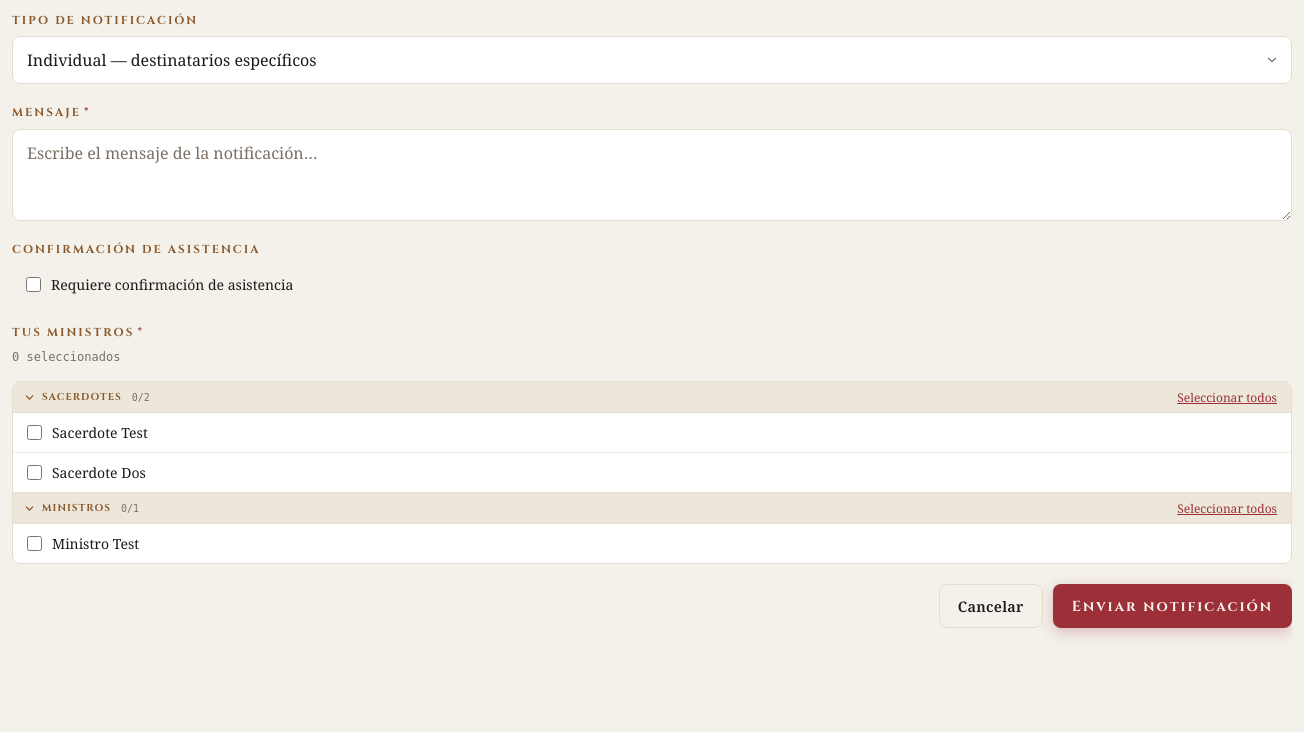
Test: EnviarNotificacionForm › asocia las etiquetas y nombra los grupos y el evento condicional
Expected: the dropdown labelled "Tipo de notificación" is shown, [12,36,1292,84]
Expected: the checkbox labelled "Sacerdote Test" is shown, [27,425,42,440]
Click the checkbox labelled "Requiere confirmación de asistencia": x=34, y=284 [26,277,41,292]
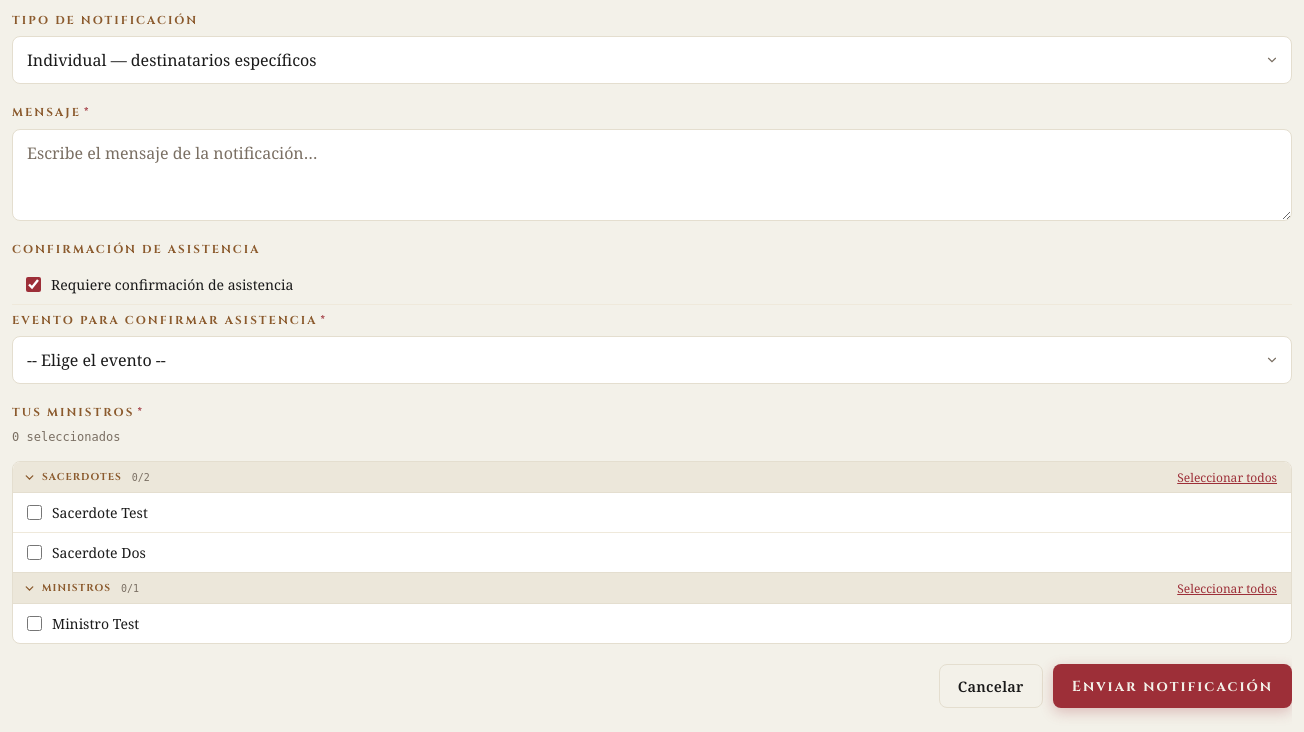
Click the checkbox labelled "Requiere confirmación de asistencia": x=34, y=284 [26,277,41,292]
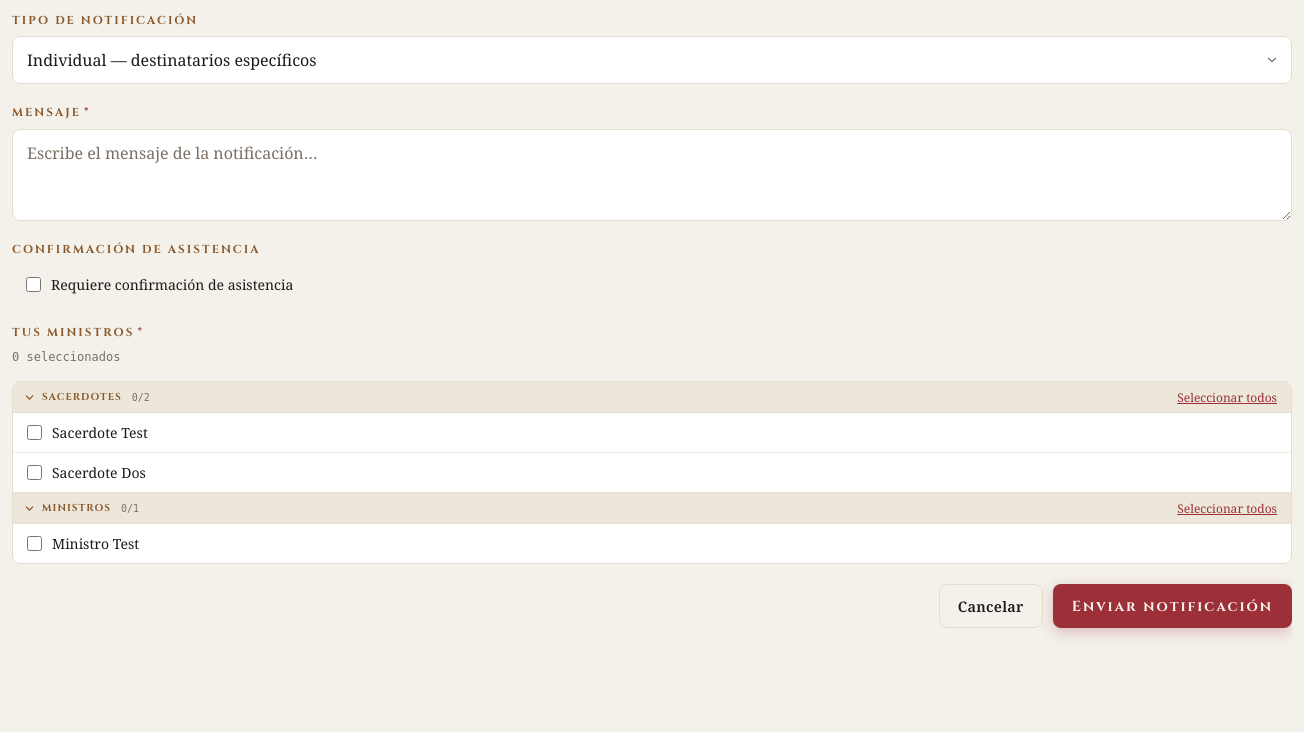
Expected: the label "Evento para confirmar asistencia" is gone
